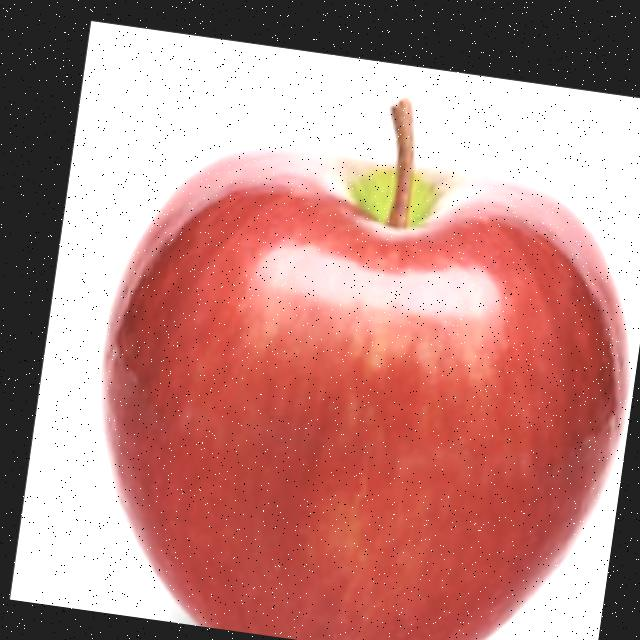Ripe: (57, 51, 640, 640)
